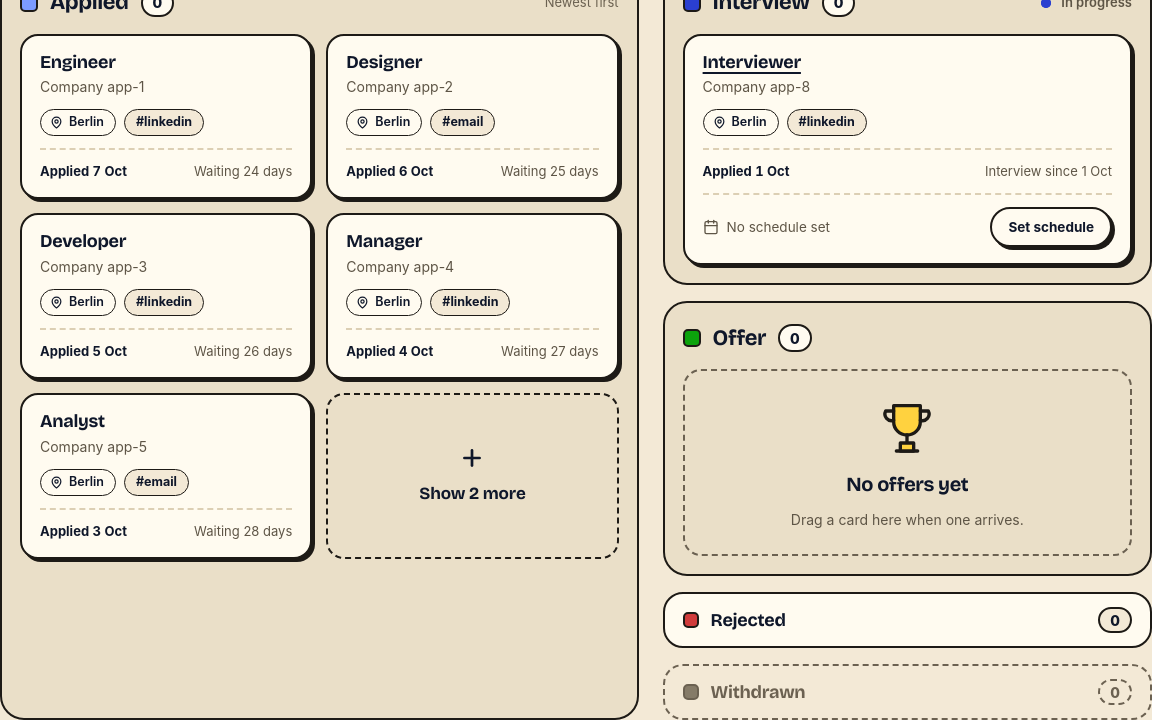
Scenario: Applications list › shows the remaining applied cards when "Show more" is clicked
The width and height of the screenshot is (1152, 720).
(page scrolled)
expect the link "Engineer" is shown: met, box [20,34,312,199]
expect the link "Architect" is not shown: met
Click the button "Show 2 more". click: (444, 494)
box: [326,393,619,559]
(page scrolled)
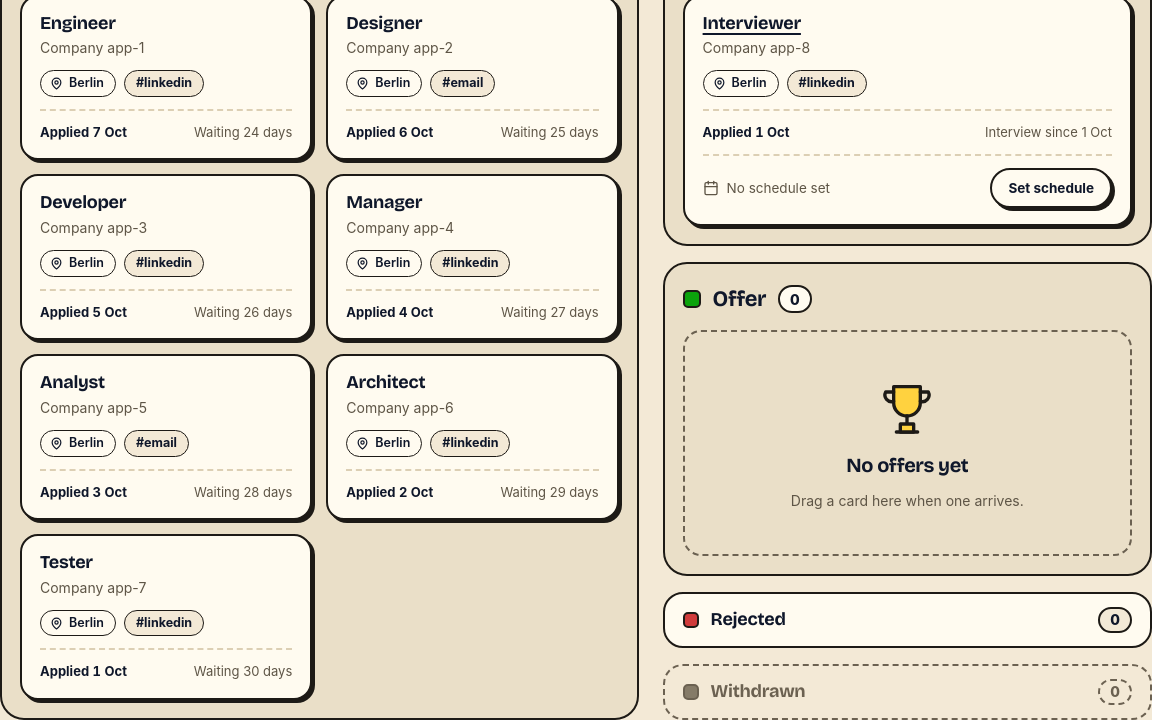
expect the link "Architect" is shown: met, box [326,354,619,520]
expect the link "Tester" is shown: met, box [20,534,312,700]
expect the button "Show 2 more" is gone: met
